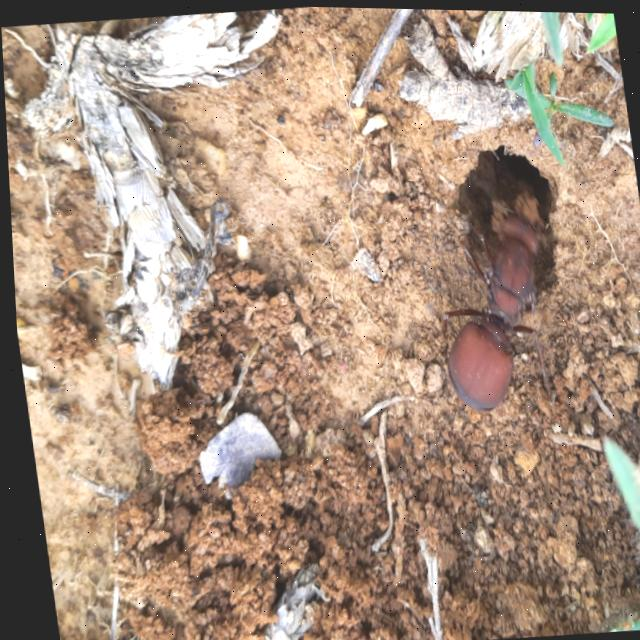Alive-Female-Dealate: (420, 184, 566, 414)
